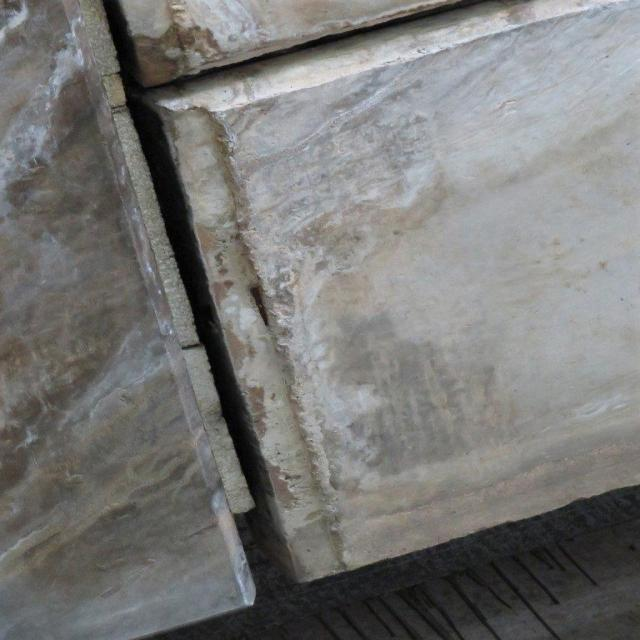Rebar: (248, 284, 274, 328)
